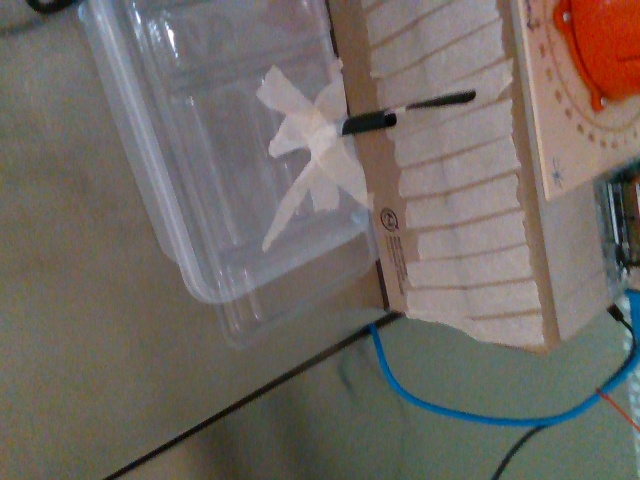test_strip: (382, 88, 473, 115)
